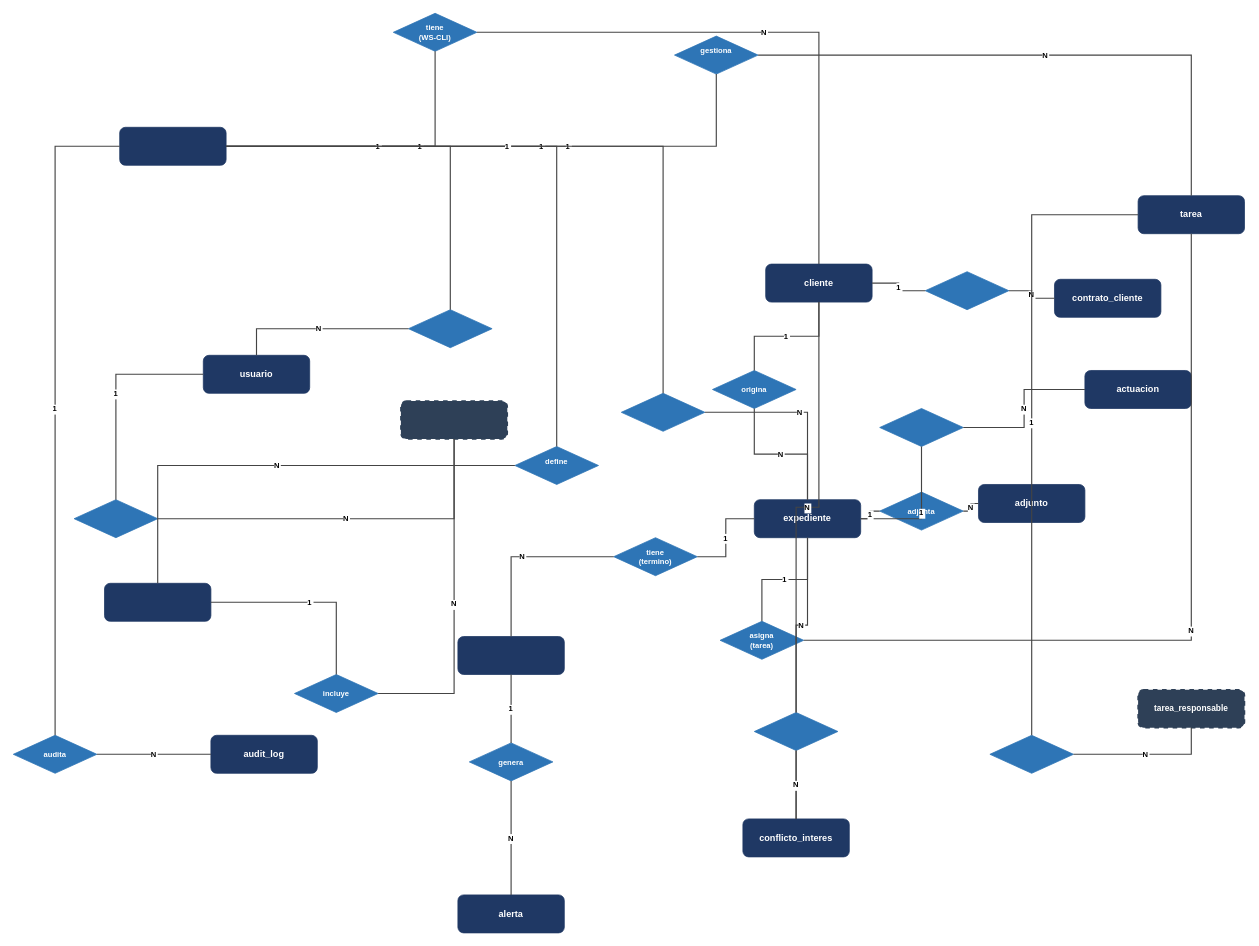
This 1259x946 diagram has some shape labels left out. Each missing label, with the box of its shape:
asignado: (73, 499, 158, 538)
contiene: (621, 393, 705, 431)
contrata: (925, 271, 1009, 310)
pertenece: (408, 309, 492, 348)
registra: (879, 408, 963, 446)
responsable: (989, 735, 1074, 773)
rol: (104, 583, 211, 621)
termino: (457, 636, 564, 674)
usuario_rol: (400, 400, 508, 439)
verifica (conflicto): (754, 712, 838, 750)
workspace: (119, 127, 226, 165)
